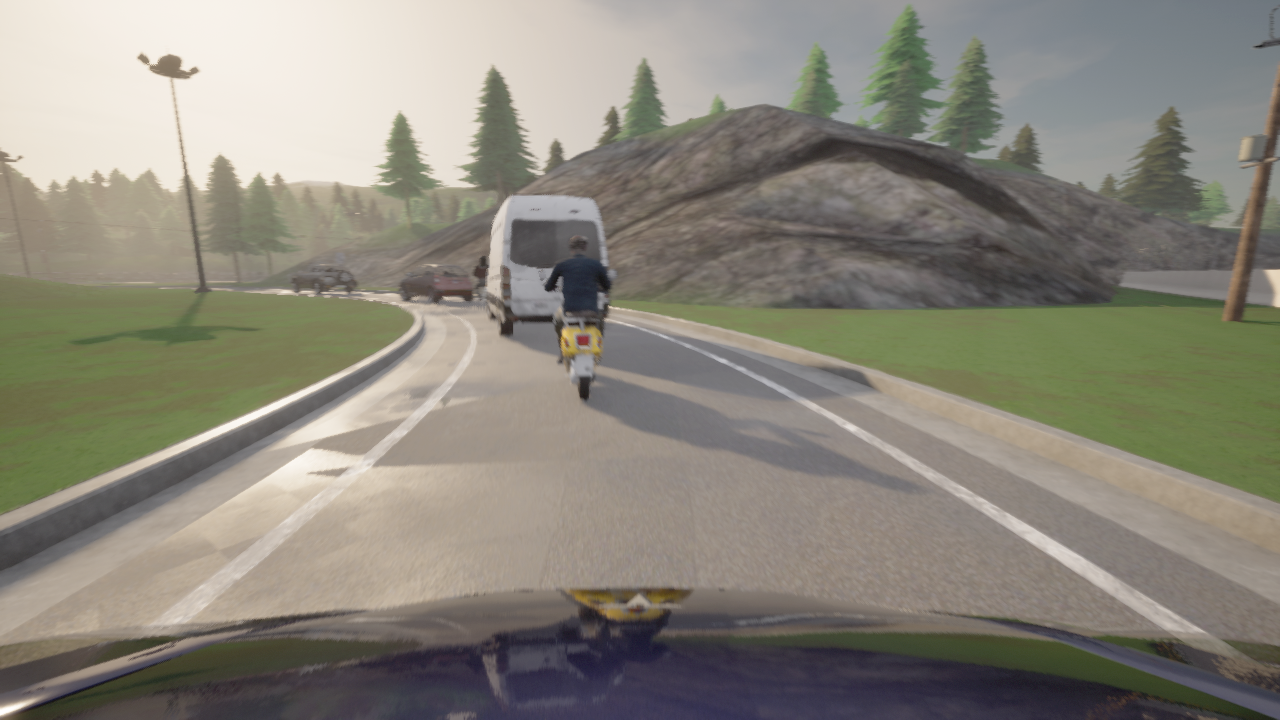cyclist: (0, 588, 1279, 719), (479, 195, 609, 336), (538, 270, 616, 400), (399, 264, 473, 303), (289, 262, 356, 294), (475, 286, 486, 309)
